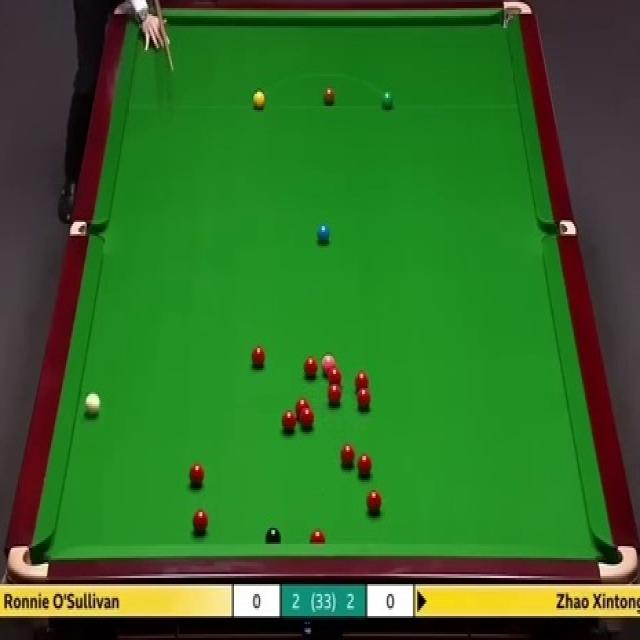pocket: (598, 543, 638, 582), (6, 545, 49, 580), (501, 2, 530, 30), (68, 220, 107, 237), (541, 220, 575, 237)
